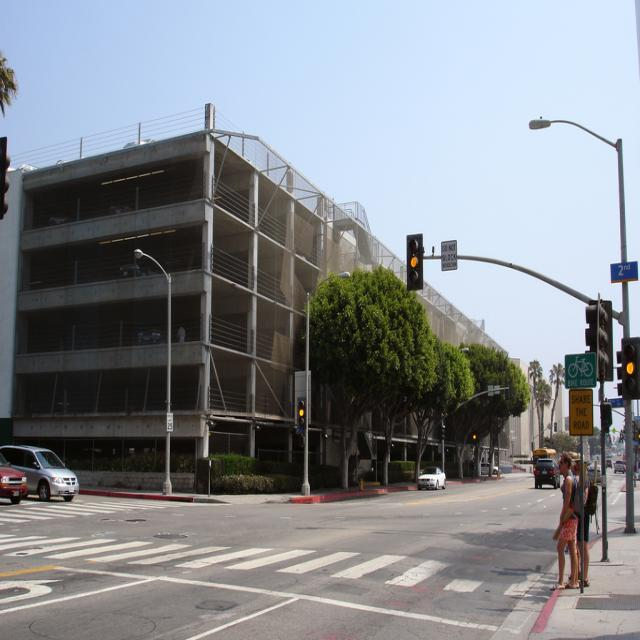traffic light: (622, 338, 640, 395), (407, 233, 423, 289)
